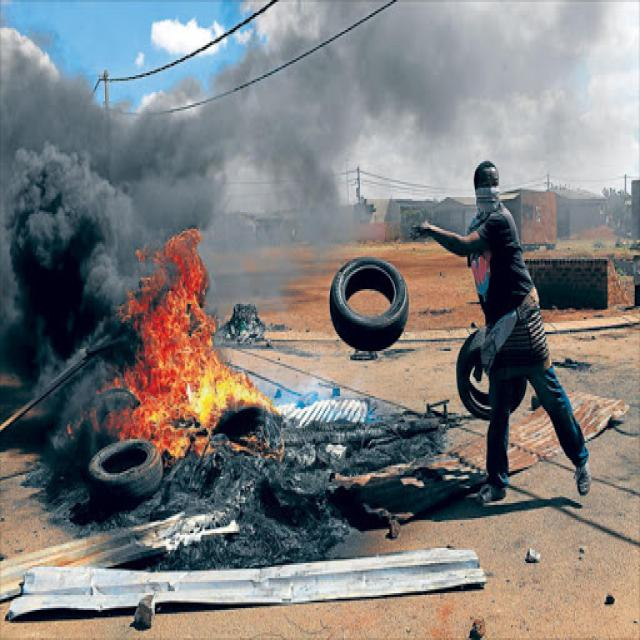fire: (107, 228, 285, 461)
